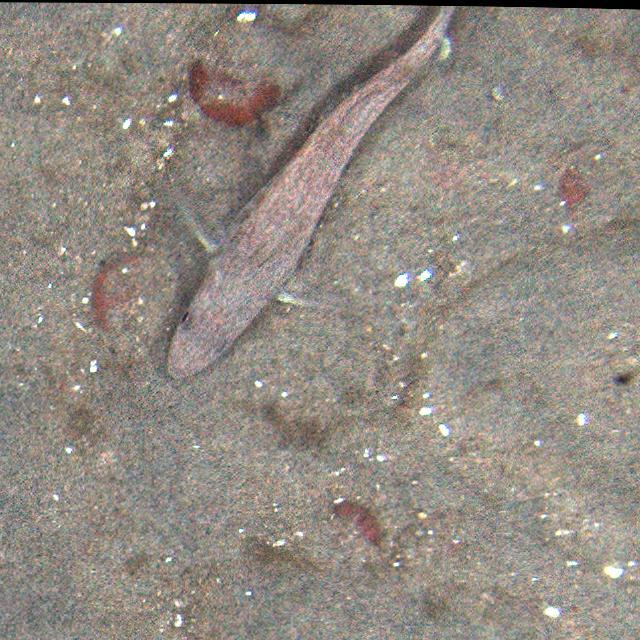roundfish: (152, 2, 470, 379)
